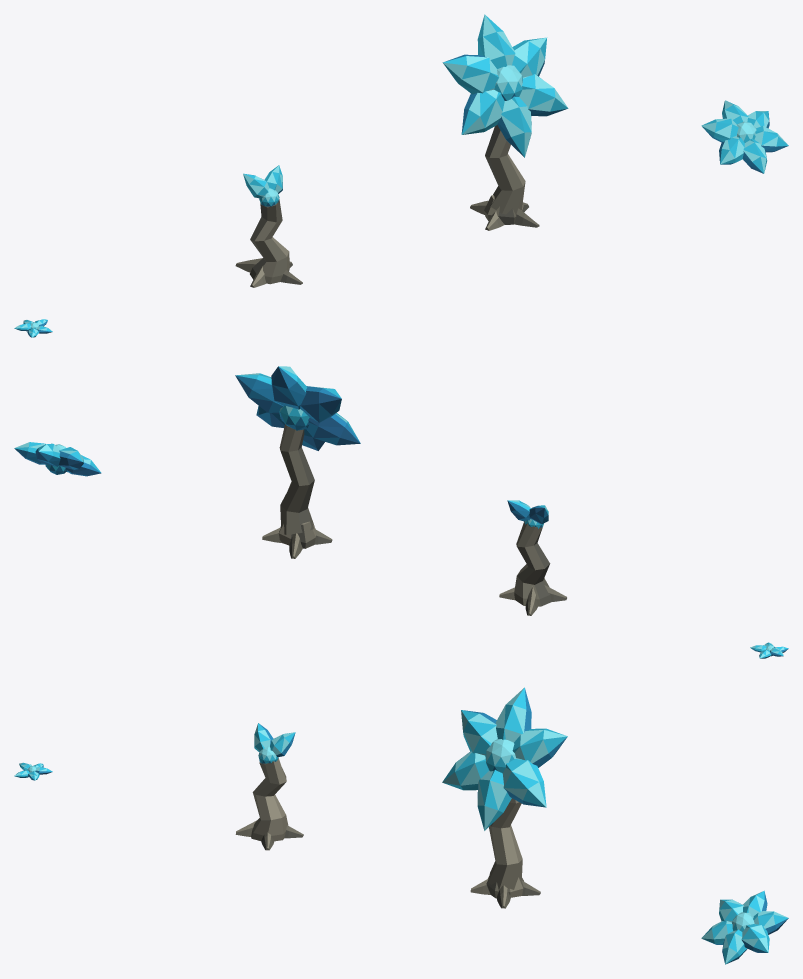
3 views of the same model, one above another, from view 1: azimuth 30°, elevation 25°; view 2: azimuth 150°, elevation 25°; view 3: azimuth 330°, elevation 25° (orthographic).
Visible parts, largest first — view 1: R_3, R_2, R_4; view 2: R_3, R_2, R_4; view 3: R_3, R_2, R_4.
Boxes of the visible parts, x1=… form: R_3: x1=442, y1=14, x2=568, y2=230; R_2: x1=235, y1=165, x2=302, y2=287; R_4: x1=701, y1=100, x2=788, y2=173; R_3: x1=235, y1=366, x2=360, y2=558; R_2: x1=499, y1=500, x2=566, y2=615; R_4: x1=14, y1=442, x2=101, y2=476; R_3: x1=442, y1=687, x2=567, y2=908; R_2: x1=235, y1=723, x2=303, y2=850; R_4: x1=701, y1=890, x2=788, y2=964.
Size of the model in its own units: 324 by 77 by 29.65.
